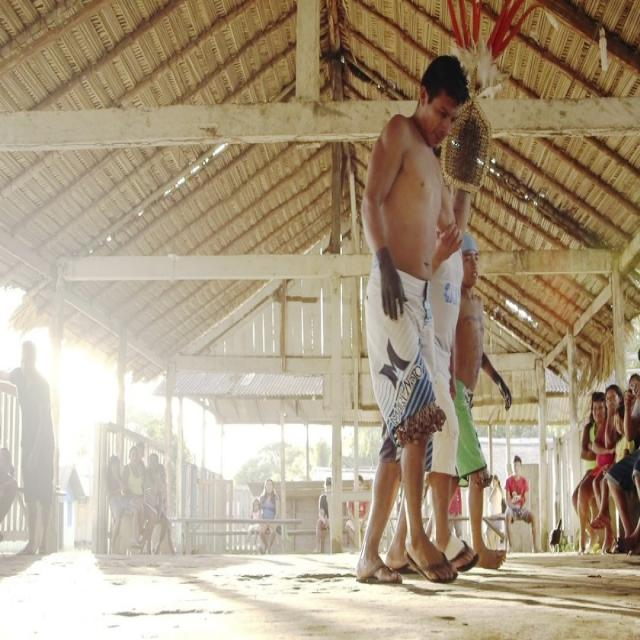body: (351, 53, 479, 592), (382, 147, 478, 576), (446, 230, 513, 572), (0, 342, 56, 556), (575, 383, 625, 559), (608, 342, 639, 552), (571, 389, 608, 556), (503, 452, 542, 556), (104, 452, 141, 550), (148, 459, 180, 558), (146, 447, 168, 558), (345, 473, 373, 551), (259, 476, 280, 556), (314, 476, 332, 556), (0, 440, 15, 530), (613, 402, 634, 465), (487, 473, 507, 532), (446, 476, 461, 535), (134, 439, 147, 481), (249, 497, 264, 521), (136, 441, 148, 460)
